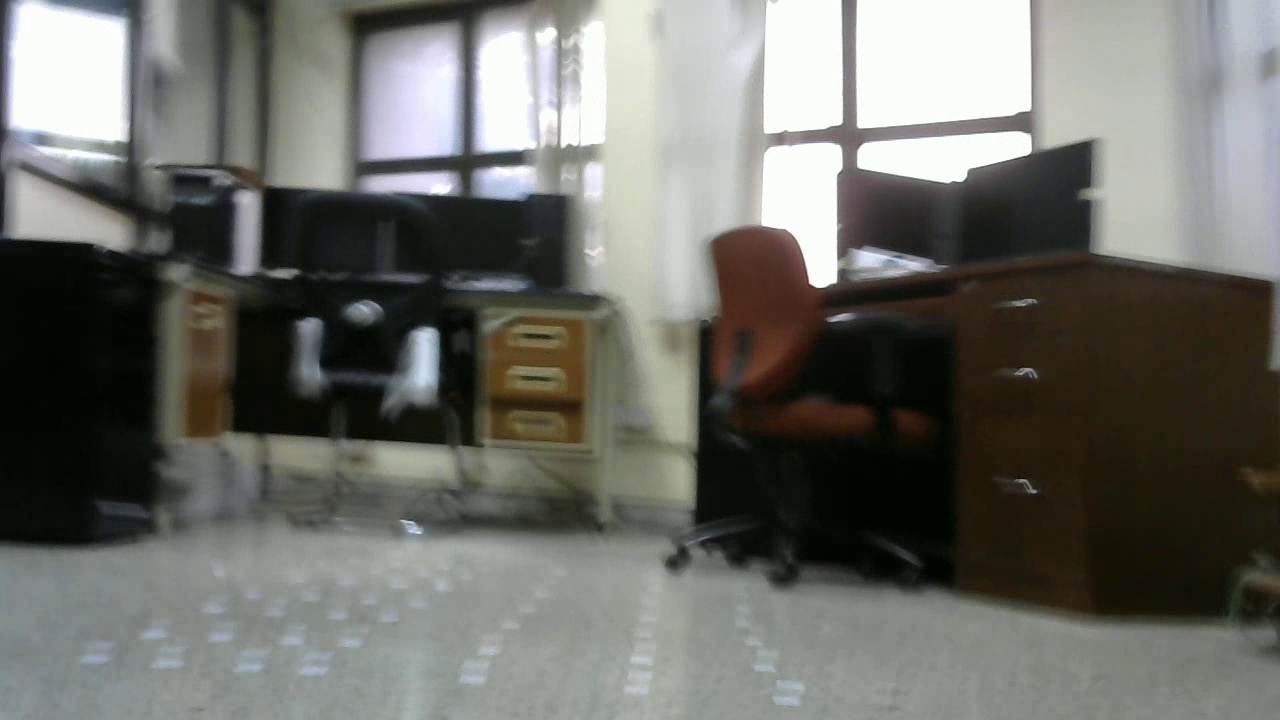chair: (658, 226, 936, 586), (279, 194, 475, 526)
